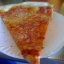pizza: (1, 3, 54, 62)
